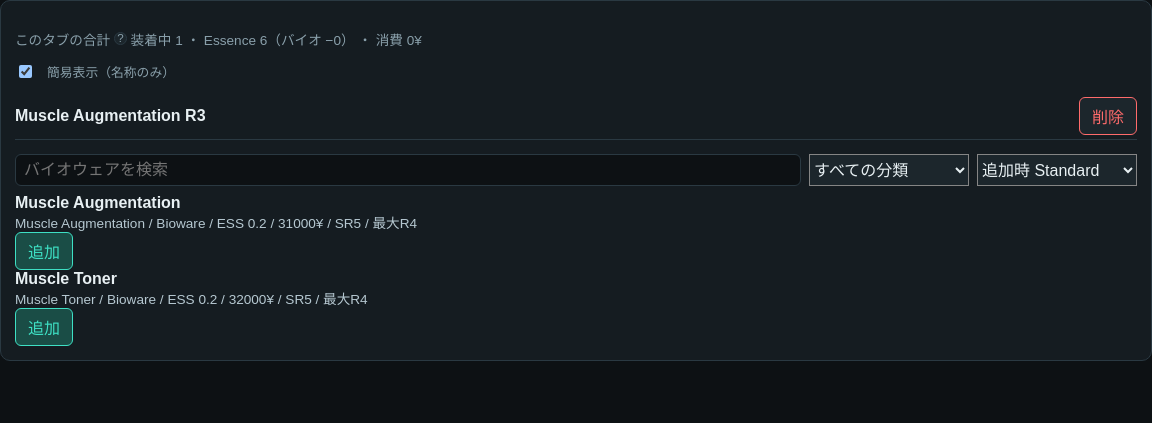
Test: <BioTab> compact view › shares the cyberware tab's name-only switch
Expected: the text "Muscle Augmentation R3" is shown, [15, 107, 206, 124]
Click the checkbox labelled "簡易表示（名称のみ）" at (26, 72), box [19, 65, 32, 78]
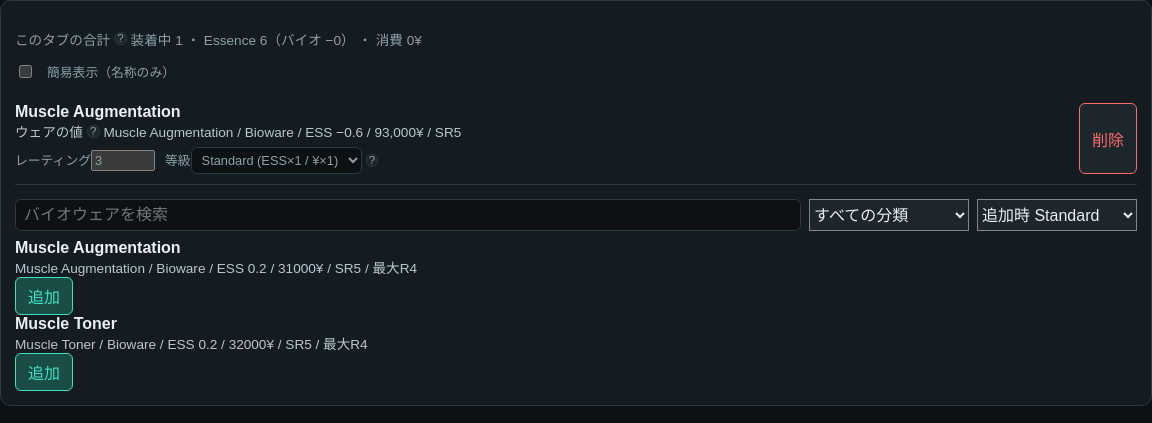
Now the element with class "cyber-controls" is shown, box [15, 147, 378, 174]
